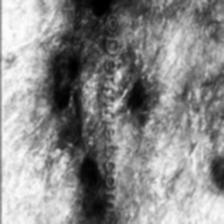Potentially Malignant Skin Tumors: (61, 46, 82, 96), (72, 162, 98, 202), (127, 84, 151, 122), (88, 0, 116, 26)
